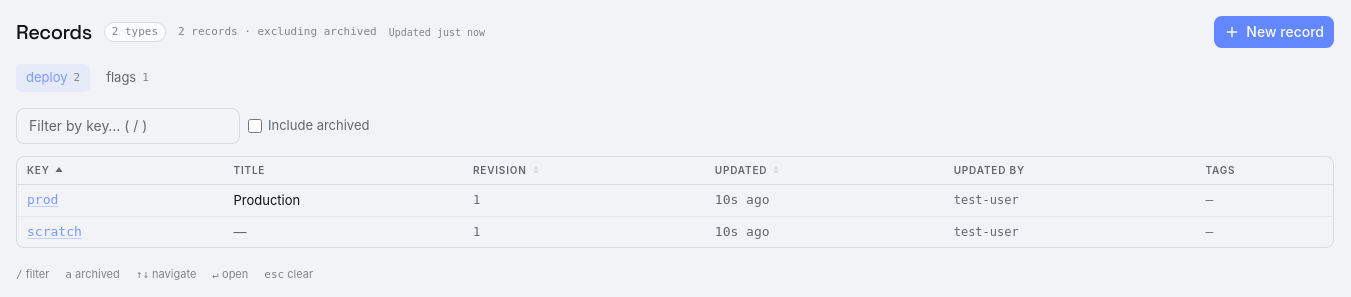
RecordsPage list › a declared presentation title adds a Title column
The image size is (1351, 297).
Expected: the text "Production" is shown, [224,184,463,216]
Expected: the column heading "Title" is shown, [224,156,463,184]
Click the tab "flags 1" at (127, 78), box [96,64,159,92]
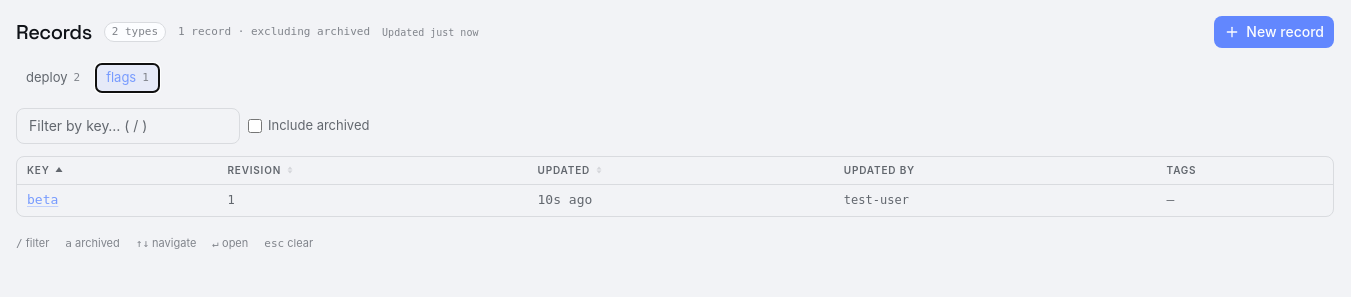
Now the link "beta" is shown, box [27,191,58,210]
Now the column heading "Title" is gone
